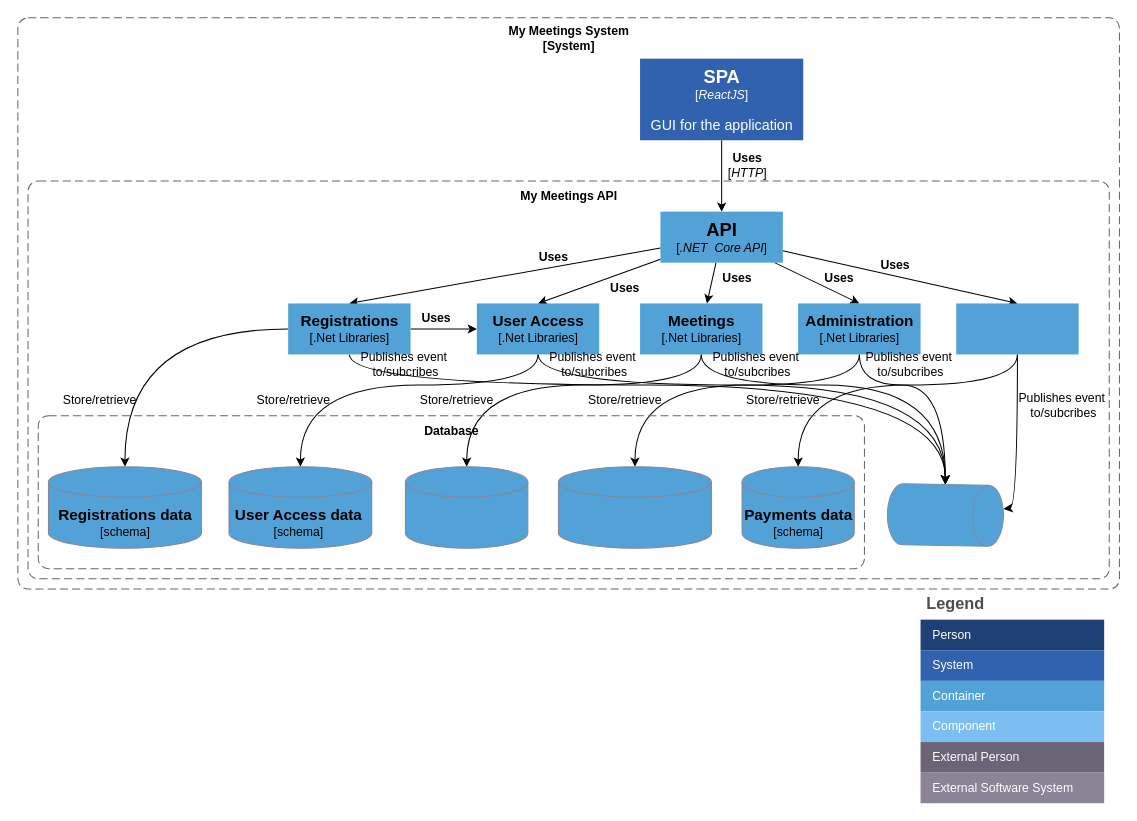
This 1137x821 diagram has some shape labels left out. The shapes that lost their labels are listed below. From the top down, each one's centre as x and y in pixels, then its label:
At point 1017,328: "Payments [.Net Libraries]".
At point 466,507: "Meetings data [schema]".
At point 634,507: "Administration data [schema]".
At point 945,514: "Events Bus [In memory]".
